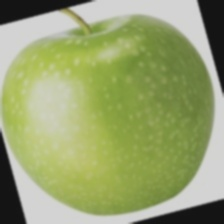apple: (48, 55, 183, 198)
